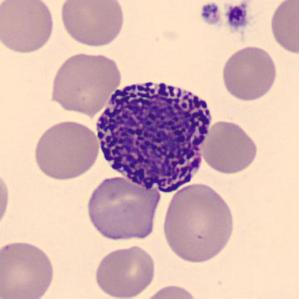Basophil: (90, 70, 215, 196)
Platelets: (225, 3, 249, 30), (198, 1, 222, 26)
RBC: (160, 181, 238, 264), (82, 173, 163, 243), (47, 49, 124, 117), (32, 118, 101, 181), (92, 244, 158, 299), (219, 44, 279, 102), (0, 238, 57, 299), (199, 118, 260, 175), (57, 0, 126, 48), (0, 0, 57, 56), (268, 0, 298, 57), (139, 283, 202, 299), (0, 166, 12, 232)
